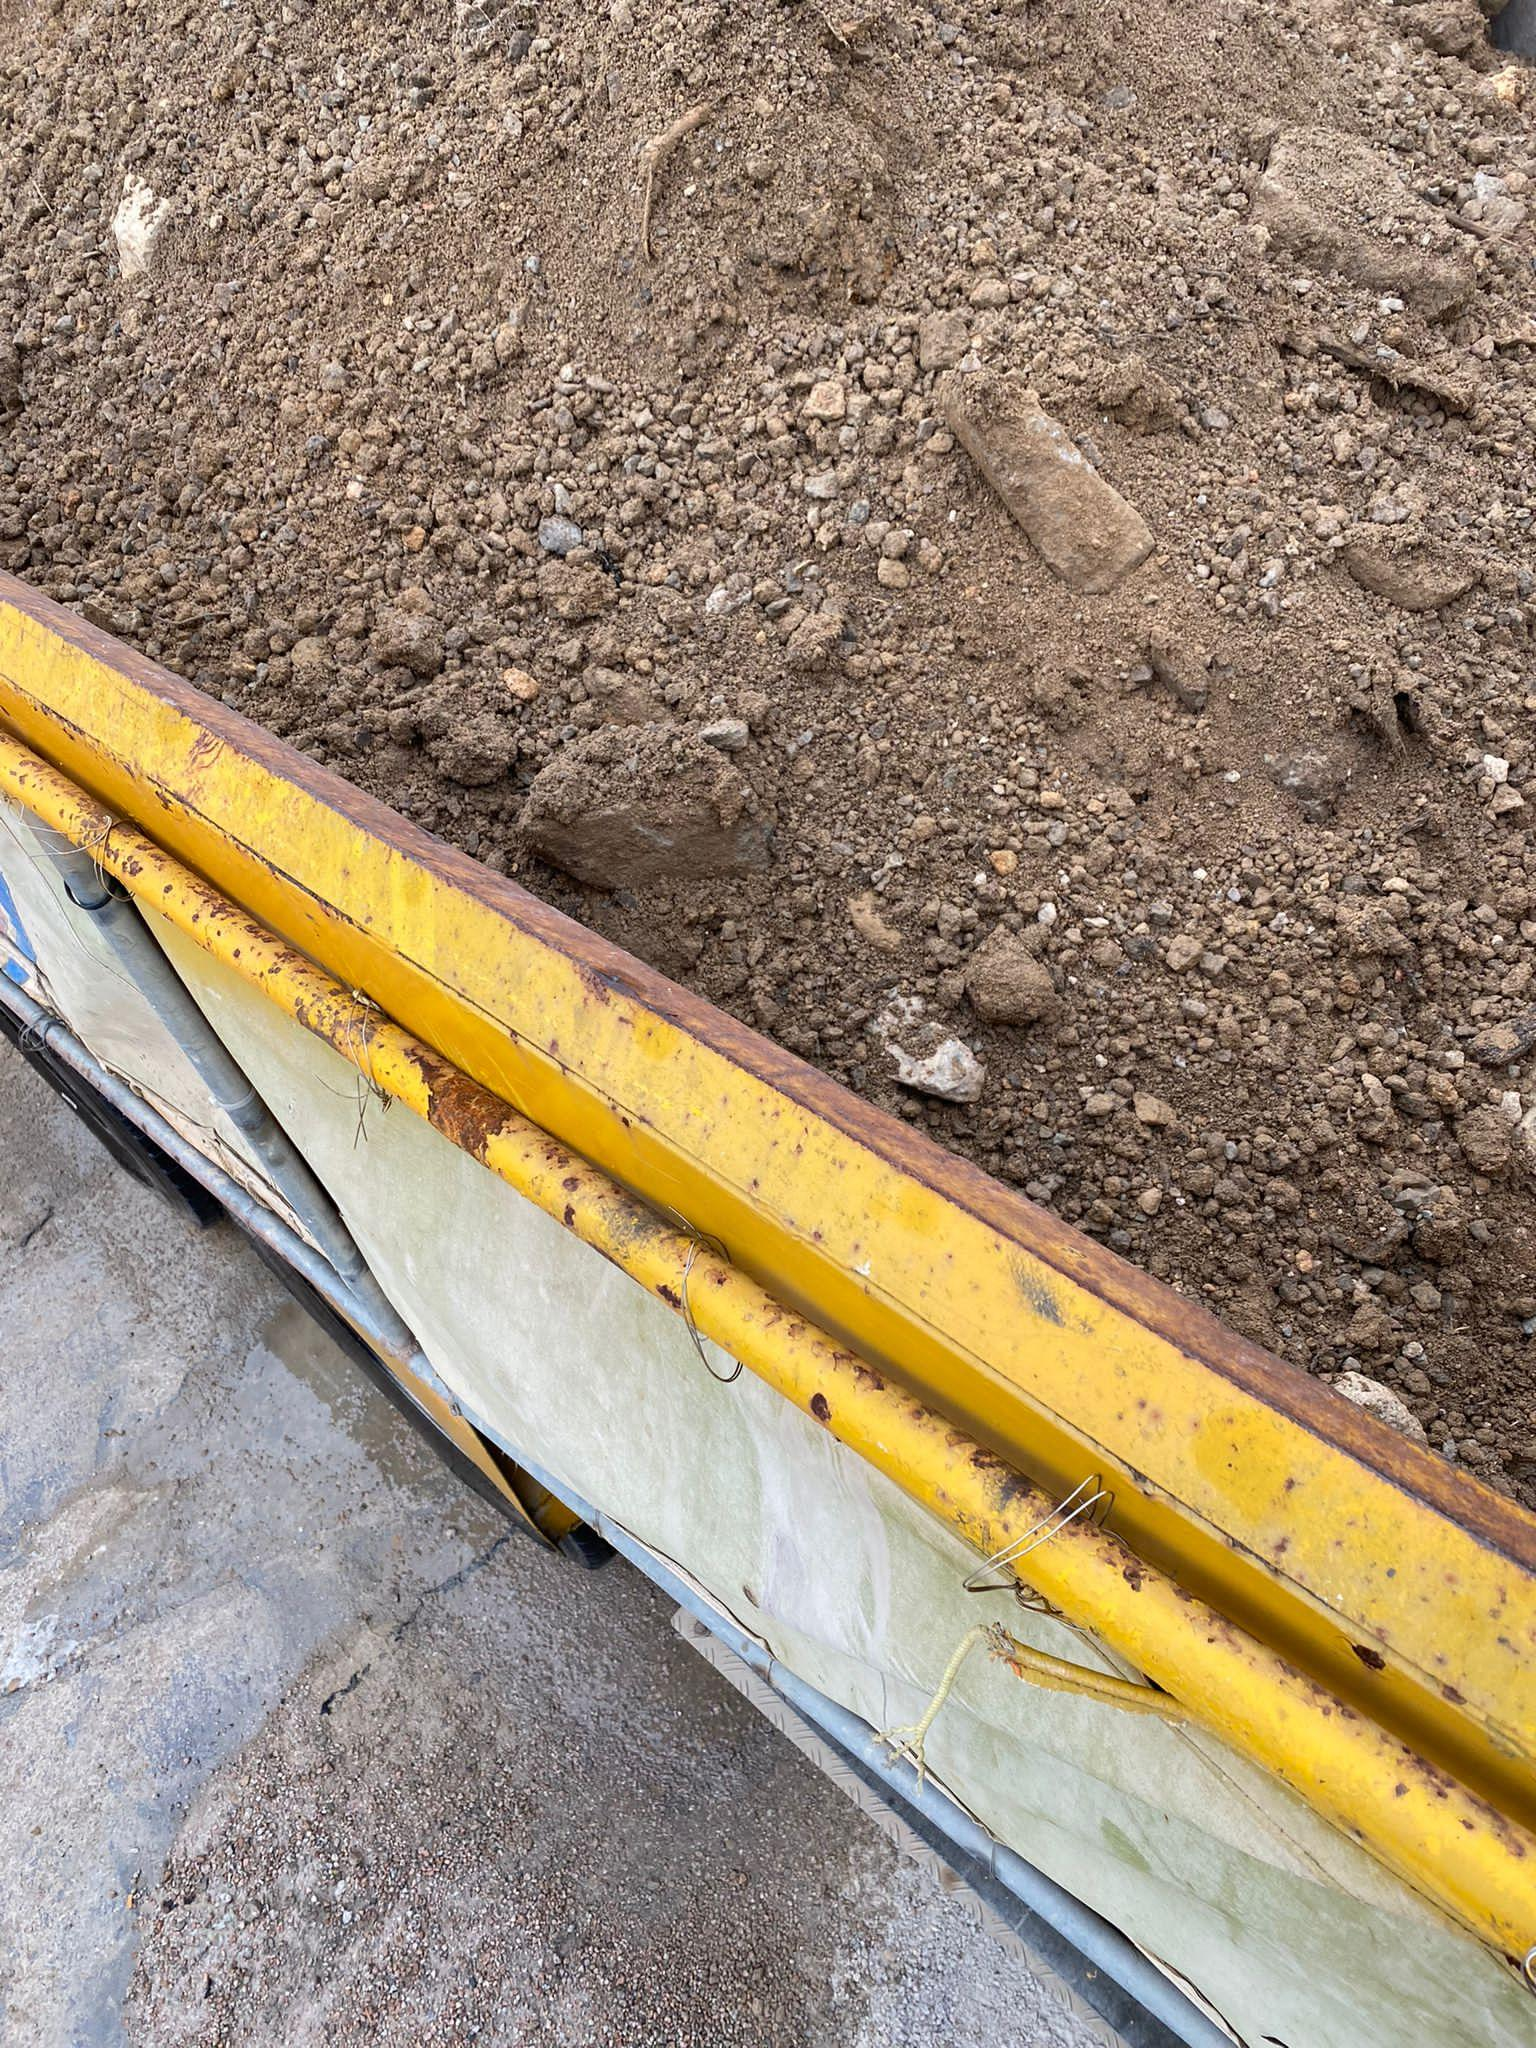stone: (933, 364, 1155, 595), (515, 719, 774, 892), (962, 927, 1055, 1026), (883, 1018, 984, 1101)
